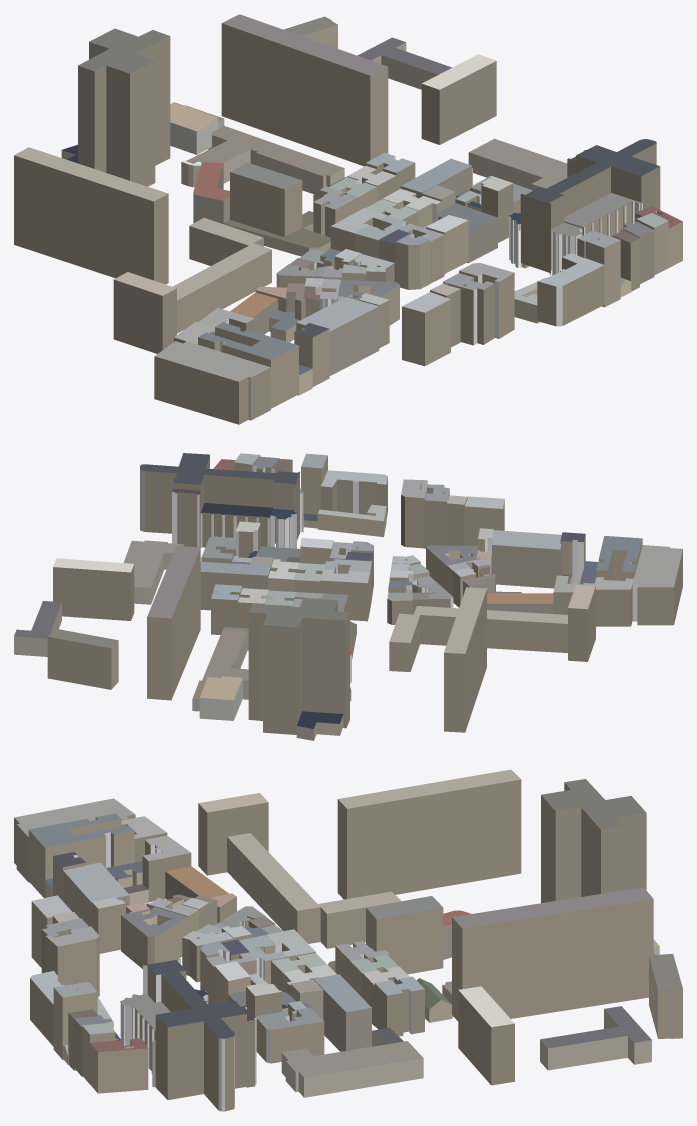
3 views of the same model, one above another, from view 1: azimuth 30°, elevation 25°; view 2: azimuth 150°, elevation 25°; view 3: azimuth 270°, elevation 25° (orthographic). The views are drawn at different scales.
Visible parts, largest first — view 1: tuile; view 2: tuile; view 3: tuile.
Part boxes in pixels (bbox=[...]): tuile: bbox=[14, 14, 682, 424]; tuile: bbox=[14, 453, 682, 740]; tuile: bbox=[14, 769, 682, 1111].
Bounding box in the file's own units: 267 × 61.61 × 266.
